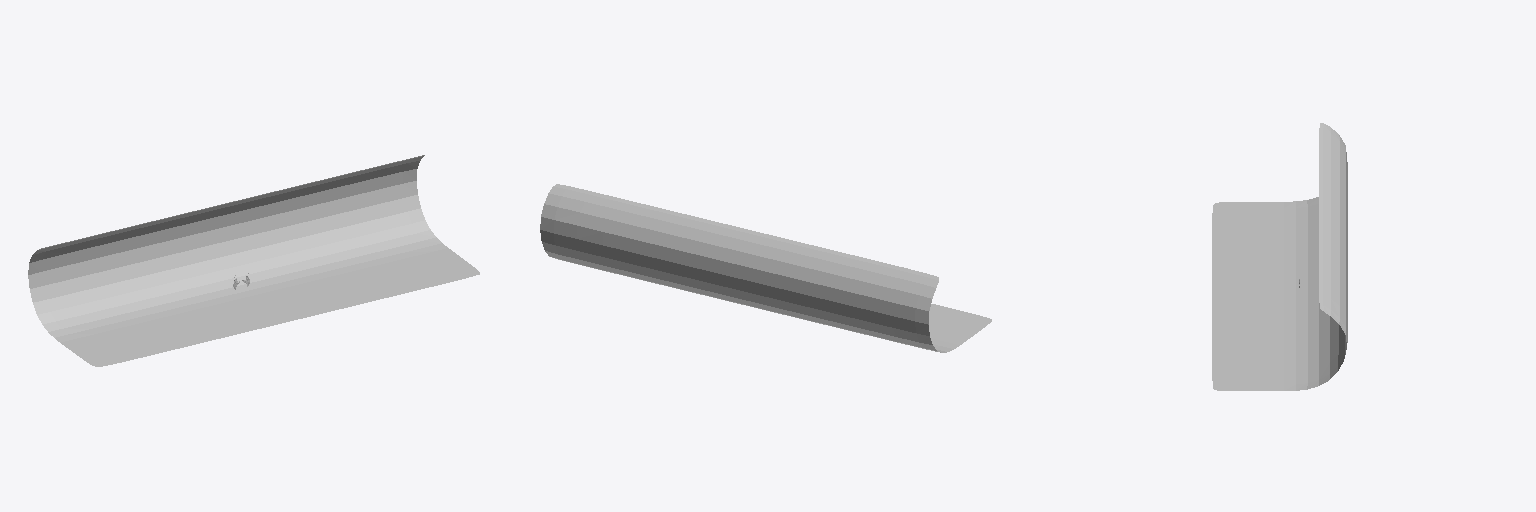
The model's file is WingsRender.obj.
3 renders of one model, left to right at view 1: azimuth 30°, elevation 25°; view 2: azimuth 150°, elevation 25°; view 3: azimuth 270°, elevation 25°, orthographic.
Parts seen in each view (by area): view 1: Plane.000_Plane.001; view 2: Plane.000_Plane.001; view 3: Plane.000_Plane.001.
Boxes of the visible parts, box(x1,y1,x2,y2) form: Plane.000_Plane.001: box(28, 155, 479, 366); Plane.000_Plane.001: box(540, 184, 991, 352); Plane.000_Plane.001: box(1212, 123, 1347, 390).
Bounding box in the file's own units: 18.78 × 3.76 × 5.68.